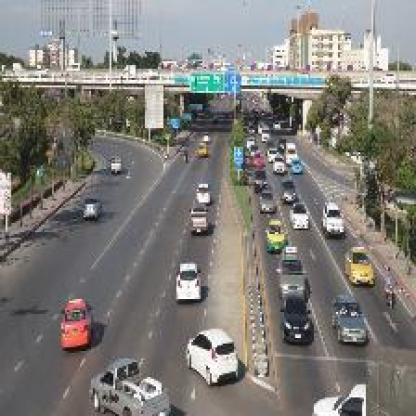other: (54, 288, 94, 348), (334, 238, 374, 290), (170, 257, 195, 303)
